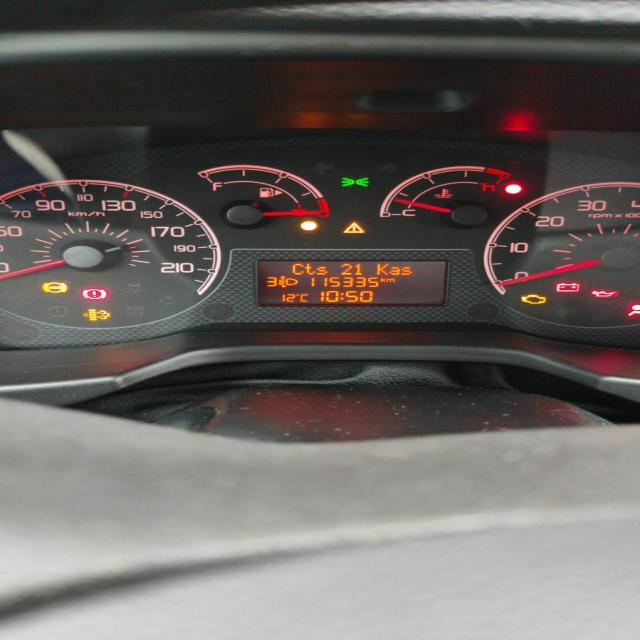odometer: (253, 258, 450, 306)
